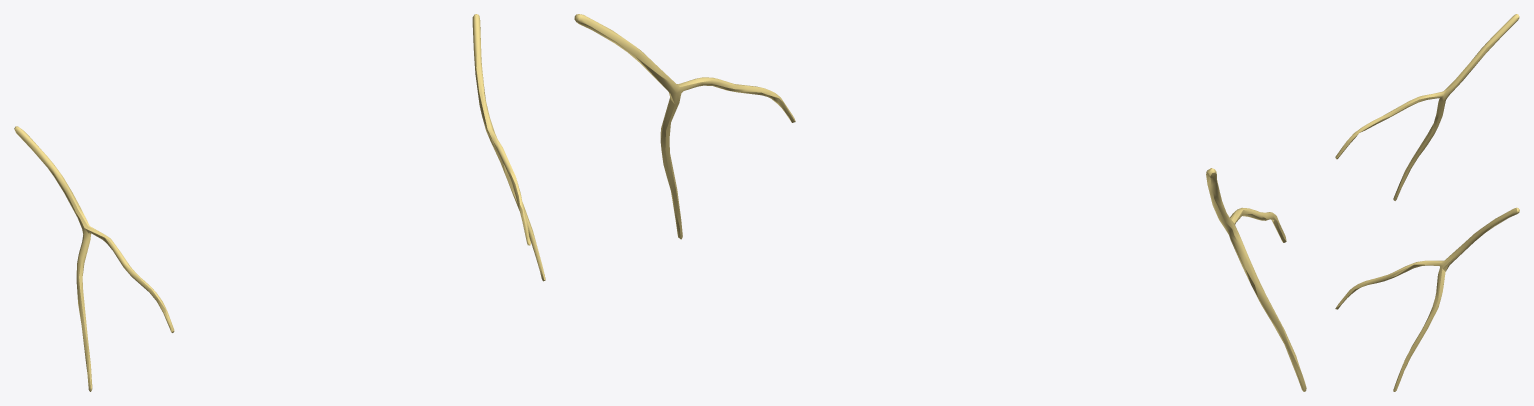
The model's file is fma6201_cx128.glb.
3 views of the same model, side by side, from view 1: azimuth 30°, elevation 25°; view 2: azimuth 150°, elevation 25°; view 3: azimuth 270°, elevation 25° (orthographic). The views are drawn at different scales.
Parts seen in each view (by area): view 1: FMA6201_CX128; view 2: FMA6201_CX128; view 3: FMA6201_CX128.
Part boxes in pixels (left/top/right/bottom): FMA6201_CX128: left=14, top=14, right=545, bottom=391; FMA6201_CX128: left=574, top=14, right=1306, bottom=391; FMA6201_CX128: left=1335, top=14, right=1519, bottom=391.
Size of the model in its own units: 0.0648 by 0.0286 by 0.0258.
